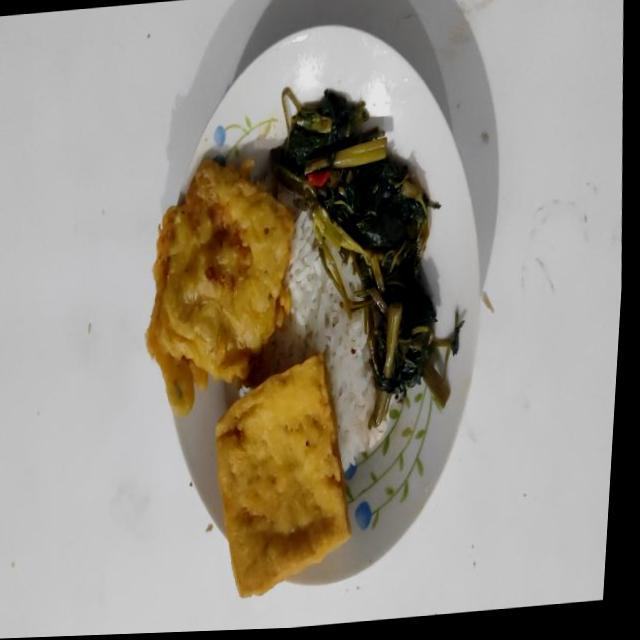nasi_putih: (249, 210, 390, 472)
tahu_goreng: (216, 354, 352, 597)
tumis_kangkung: (271, 87, 464, 428)
